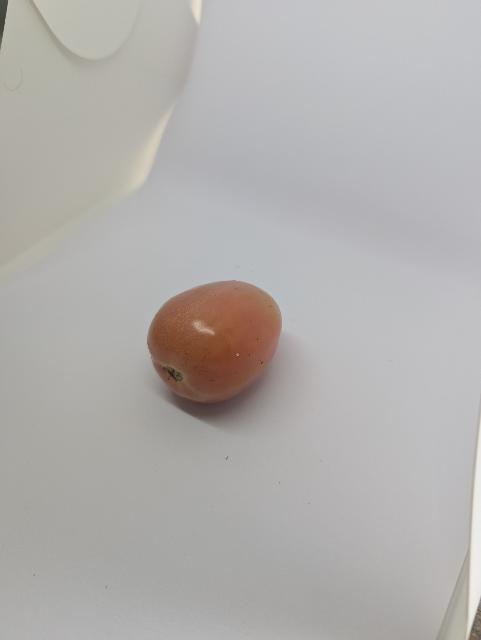turning: (138, 279, 293, 412)
